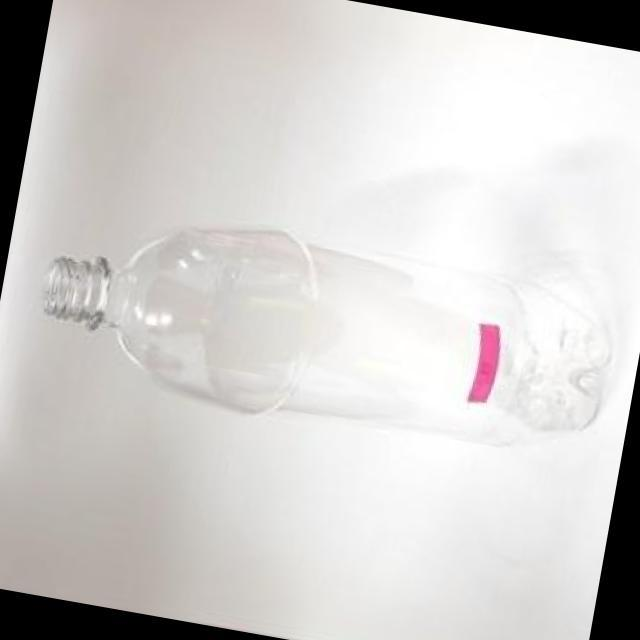good: (7, 173, 638, 507)
